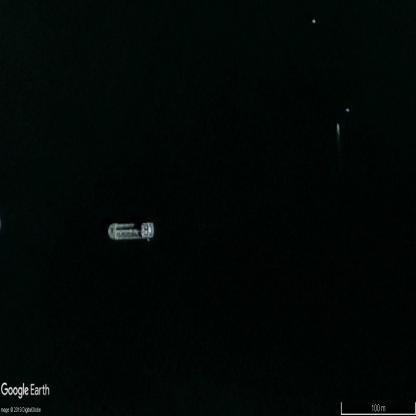ship: (107, 222, 156, 241)
